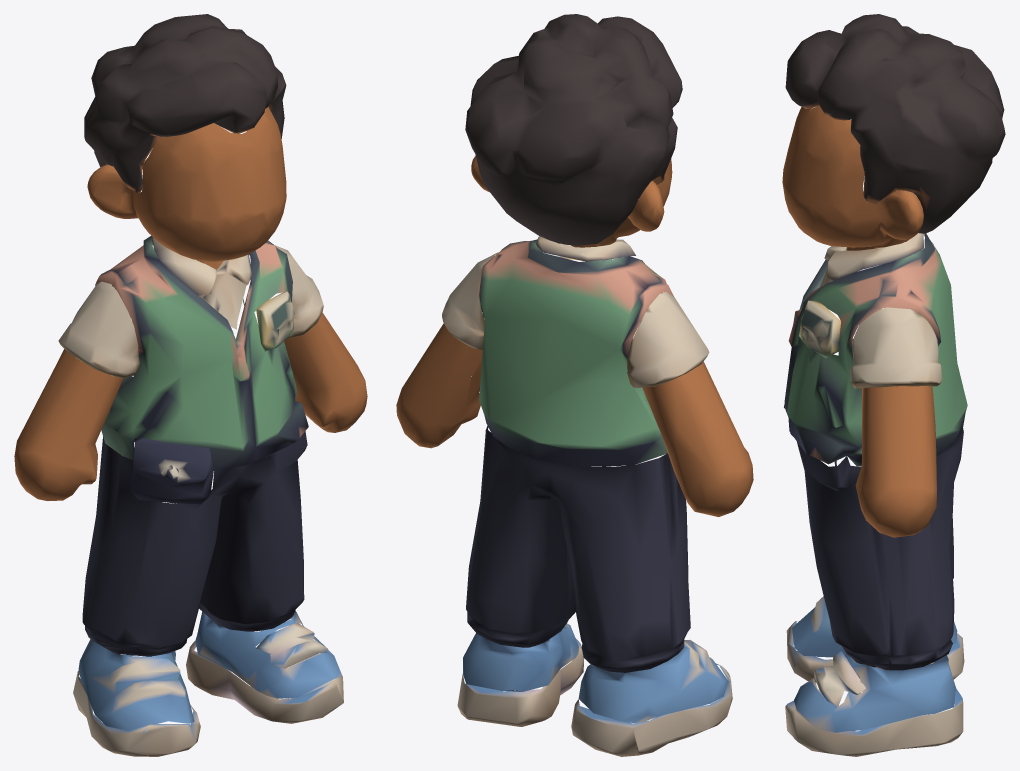
3 views of the same model, side by side, from view 1: azimuth 30°, elevation 25°; view 2: azimuth 150°, elevation 25°; view 3: azimuth 270°, elevation 25° (orthographic).
Visible parts, largest first — view 1: top, bottom, hair, head, shoe_l, shoe_r, hand_r, sleeve_r, hand_l, sleeve_l; view 2: bottom, hair, top, shoe_r, hand_r, shoe_l, hand_l, sleeve_r, sleeve_l, head; view 3: hair, bottom, top, shoe_l, head, hand_l, sleeve_l, shoe_r.
Boxes of the visible parts, x1,y1,x2,y2 form: top: (95, 235, 308, 470); bottom: (82, 431, 307, 656); hair: (84, 14, 286, 193); head: (87, 106, 286, 270); shoe_l: (186, 610, 343, 723); shoe_r: (73, 639, 200, 756); hand_r: (14, 349, 123, 500); sleeve_r: (58, 281, 213, 504); hand_l: (284, 312, 367, 432); sleeve_l: (274, 245, 323, 338); bottom: (466, 426, 690, 672); hair: (465, 14, 682, 245); top: (479, 236, 674, 467); shoe_r: (571, 640, 732, 756); hand_r: (642, 361, 753, 516); shoe_l: (457, 623, 583, 726); hand_l: (396, 323, 482, 448); sleeve_r: (627, 292, 709, 387); sleeve_l: (442, 252, 498, 349); head: (471, 156, 672, 247); hair: (785, 14, 1005, 233); bottom: (797, 428, 963, 670); top: (784, 233, 967, 466); shoe_l: (785, 651, 963, 756); head: (782, 105, 923, 250); hand_l: (855, 386, 936, 537); sleeve_l: (850, 307, 941, 388); shoe_r: (786, 596, 964, 683).
Size of the model in its own units: 0.5398 by 1.03 by 0.3073.
